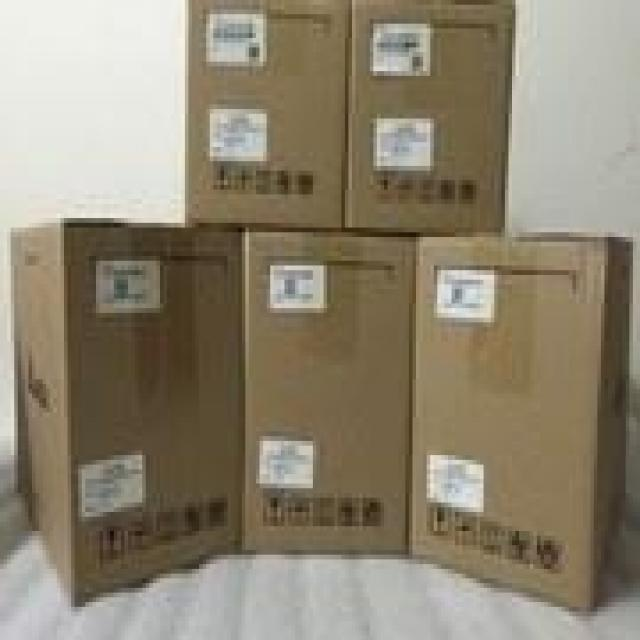box: (7, 214, 245, 602), (414, 220, 636, 620), (240, 220, 412, 560), (346, 0, 522, 241), (184, 2, 342, 230)
